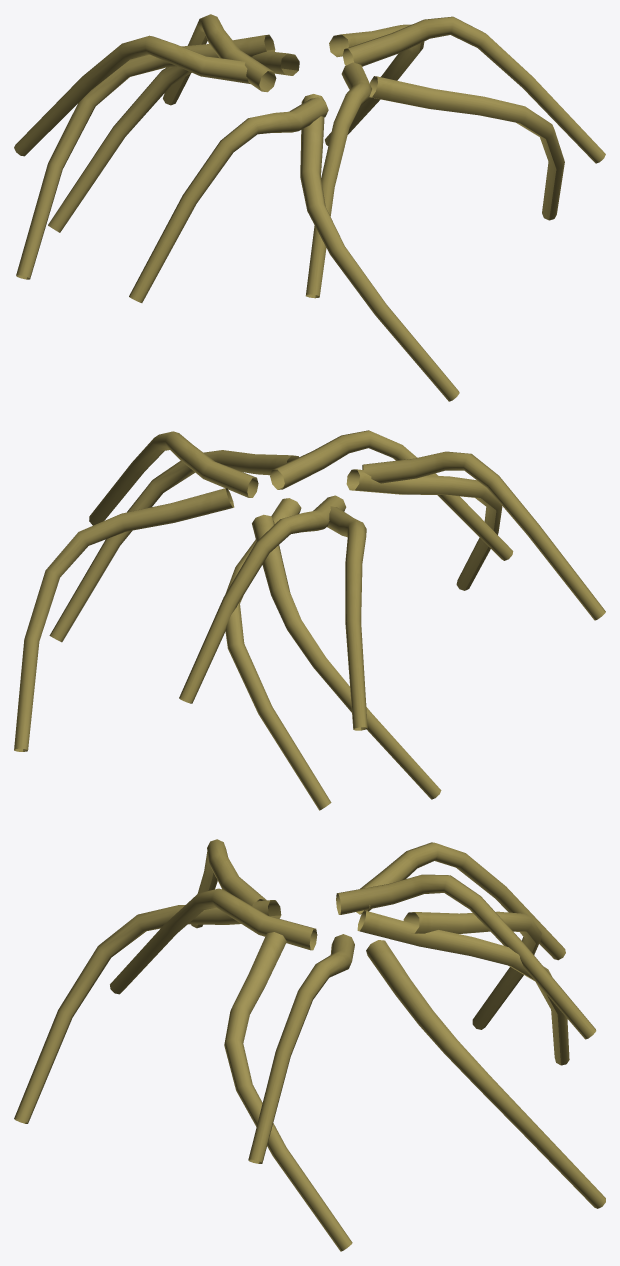
Rendered from radix.fbx.
3 views of the same model, one above another, from view 1: azimuth 30°, elevation 25°; view 2: azimuth 150°, elevation 25°; view 3: azimuth 270°, elevation 25° (orthographic). The views are drawn at different scales.
Parts seen in each view (by area): view 1: BezierCurve.037, BezierCurve.038, BezierCurve.041, BezierCurve.039, BezierCurve.040; view 2: BezierCurve.040, BezierCurve.038, BezierCurve.041, BezierCurve.039, BezierCurve.037; view 3: BezierCurve.039, BezierCurve.040, BezierCurve.037, BezierCurve.041, BezierCurve.038.
Boxes of the visible parts, <box> form: BezierCurve.037: <box>300,16,605,401</box>; BezierCurve.038: <box>48,51,328,302</box>; BezierCurve.041: <box>16,34,371,298</box>; BezierCurve.039: <box>163,14,564,220</box>; BezierCurve.040: <box>14,24,424,156</box>; BezierCurve.040: <box>14,488,367,751</box>; BezierCurve.038: <box>225,451,605,810</box>; BezierCurve.041: <box>252,430,513,799</box>; BezierCurve.039: <box>49,450,346,703</box>; BezierCurve.037: <box>89,431,502,590</box>; BezierCurve.039: <box>224,874,596,1251</box>; BezierCurve.040: <box>356,842,605,1208</box>; BezierCurve.037: <box>14,900,354,1163</box>; BezierCurve.041: <box>110,888,541,1029</box>; BezierCurve.038: <box>191,839,569,1065</box>.
Bounding box in the file's own units: 0.147 × 0.0646 × 0.1441.
Materials: 1 (1 with a texture image).
